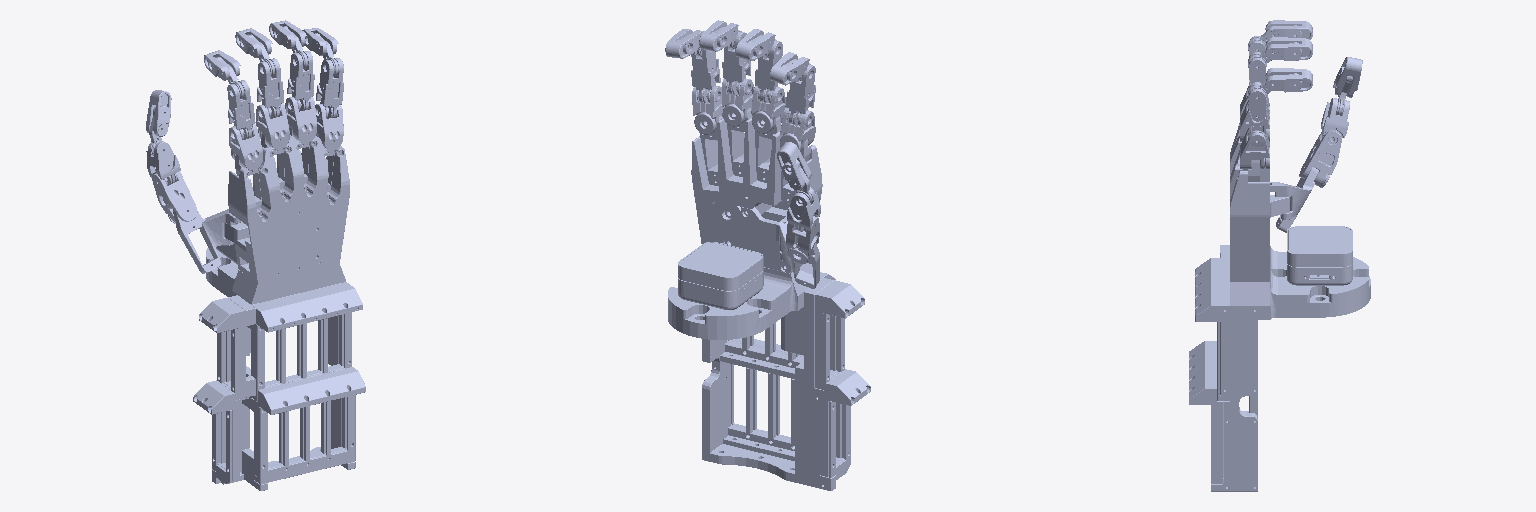
--- Facts derived from the render (not from the file) ---
Views: 3 orthographic renders of the robot side by side, from view 1: azimuth 30°, elevation 25°; view 2: azimuth 150°, elevation 25°; view 3: azimuth 270°, elevation 25°.
Model hand_rviz/urdf with 22 links and 21 joints (21 revolute), rooted at hand_base_link, posed every joint at zero.
Visible links, largest first — view 1: hand_base_link, tcf_link, tca_link, pmf_link, rmf_link, mmf_link, imf_link, mma_link, ima_link, rma_link, tma_link, pma_link (+5 smaller); view 2: hand_base_link, imf_link, pmf_link, mma_link, rma_link, pma_link, tca_link, rmf_link, tdf_link, tcf_link, tma_link, mmf_link (+5 smaller); view 3: hand_base_link, tca_link, tcf_link, pdf_link, rdf_link, pma_link, pmf_link, mdf_link, tma_link, tdf_link.
Link boxes in pixels (<box>): hand_base_link: <box>193,125,365,490</box>; tcf_link: <box>173,209,240,273</box>; tca_link: <box>152,171,197,223</box>; pmf_link: <box>316,58,343,118</box>; rmf_link: <box>287,51,314,111</box>; mmf_link: <box>257,58,283,118</box>; imf_link: <box>227,80,255,139</box>; mma_link: <box>256,103,289,149</box>; ima_link: <box>229,124,262,170</box>; rma_link: <box>285,97,316,142</box>; tma_link: <box>146,142,180,185</box>; pma_link: <box>315,104,343,150</box>; hand_base_link: <box>668,108,870,490</box>; imf_link: <box>785,64,815,125</box>; pmf_link: <box>691,49,720,103</box>; mma_link: <box>751,85,785,133</box>; rma_link: <box>722,79,754,126</box>; pma_link: <box>692,86,724,134</box>; tca_link: <box>786,216,819,263</box>; rmf_link: <box>722,31,750,95</box>; tdf_link: <box>777,142,811,190</box>; tcf_link: <box>779,217,819,288</box>; tma_link: <box>787,187,820,231</box>; mmf_link: <box>755,40,782,102</box>; hand_base_link: <box>1189,123,1370,491</box>; tca_link: <box>1299,130,1341,187</box>; tcf_link: <box>1270,167,1318,232</box>; pdf_link: <box>1265,68,1312,92</box>; rdf_link: <box>1265,37,1312,60</box>; pma_link: <box>1240,128,1269,169</box>; pmf_link: <box>1248,82,1266,140</box>; mdf_link: <box>1265,21,1312,39</box>; tma_link: <box>1321,98,1349,140</box>; tdf_link: <box>1333,57,1362,97</box>.
Size in the robot's own frame: 0.1167 by 0.1153 by 0.3038 metres.
22 mesh visuals loaded from 22 distinct referenced files (22 binary STL).

URDF robot description (hand_rviz/urdf):
<?xml version="1.0" encoding="utf-8"?>
<!-- This URDF was automatically created by SolidWorks to URDF Exporter! Originally created by Stephen Brawner ([email redacted]) 
     Commit Version: 1.6.0-4-g7f85cfe  Build Version: 1.6.7995.38578
     For more information, please see http://wiki.ros.org/sw_urdf_exporter -->
<robot
  name="hand_rviz/urdf">
  <link
    name="hand_base_link">
    <inertial>
      <origin
        xyz="-0.00076267 -0.0093008 0.022607"
        rpy="0 0 0" />
      <mass
        value="1.3833" />
      <inertia
        ixx="0.00044356"
        ixy="3.5016E-06"
        ixz="4.5009E-07"
        iyy="0.00052255"
        iyz="1.0335E-05"
        izz="0.00049725" />
    </inertial>
    <visual>
      <origin
        xyz="0 0 0"
        rpy="0 0 0" />
      <geometry>
        <mesh
          filename="package://hand_rviz/urdf/meshes/hand_base_link.STL" />
      </geometry>
      <material
        name="">
        <color
          rgba="0.79216 0.81961 0.93333 1" />
      </material>
    </visual>
  </link>
  <link
    name="tcf_link">
    <inertial>
      <origin
        xyz="-0.013539870918749 0.00696804614882354 -0.00538371900659743"
        rpy="0 0 0" />
      <mass
        value="0.00484999590725353" />
      <inertia
        ixx="7.75462007985153E-07"
        ixy="2.19658485715546E-07"
        ixz="4.35849510085829E-09"
        iyy="9.62045357645233E-07"
        iyz="-1.62755706072683E-07"
        izz="6.84730747333233E-07" />
    </inertial>
    <visual>
      <origin
        xyz="0 0 0"
        rpy="0 0 0" />
      <geometry>
        <mesh
          filename="package://hand_rviz/urdf/meshes/tcf_link.STL" />
      </geometry>
      <material
        name="">
        <color
          rgba="0.792156862745098 0.819607843137255 0.933333333333333 1" />
      </material>
    </visual>
  </link>
  <joint
    name="tcf_joint"
    type="revolute">
    <origin
      xyz="-0.03245 -0.0217 0.055"
      rpy="0 0 0" />
    <parent
      link="hand_base_link" />
    <child
      link="tcf_link" />
    <axis
      xyz="0 0 1" />
    <limit
      lower="-1.57"
      upper="0.175"
      effort="0"
      velocity="0" />
  </joint>
  <link
    name="tca_link">
    <inertial>
      <origin
        xyz="0.0104917903510064 -0.000676779323759154 0.00466340571913179"
        rpy="0 0 0" />
      <mass
        value="0.00499478923208696" />
      <inertia
        ixx="2.16030308030573E-07"
        ixy="1.54981546627714E-08"
        ixz="3.4127277536893E-08"
        iyy="5.06187109604147E-07"
        iyz="-6.53335217098194E-10"
        izz="5.03702828276537E-07" />
    </inertial>
    <visual>
      <origin
        xyz="0 0 0"
        rpy="0 0 0" />
      <geometry>
        <mesh
          filename="package://hand_rviz/urdf/meshes/tca_link.STL" />
      </geometry>
      <material
        name="">
        <color
          rgba="0.792156862745098 0.819607843137255 0.933333333333333 1" />
      </material>
    </visual>
  </link>
  <joint
    name="tca_joint"
    type="revolute">
    <origin
      xyz="-0.024 0.014785 0.0072407"
      rpy="2.8032 -1.0121 1.9642" />
    <parent
      link="tcf_link" />
    <child
      link="tca_link" />
    <axis
      xyz="0 0 1" />
    <limit
      lower="-0.5"
      upper="1"
      effort="0"
      velocity="0" />
  </joint>
  <link
    name="tma_link">
    <inertial>
      <origin
        xyz="0.0099227238129487 6.93305293311269E-05 -0.00372006632407615"
        rpy="0 0 0" />
      <mass
        value="0.00313620364525098" />
      <inertia
        ixx="9.75545402970725E-08"
        ixy="-2.05206923092884E-09"
        ixz="5.64585695528535E-09"
        iyy="1.89041486187205E-07"
        iyz="-8.1730588488558E-11"
        izz="1.94182117871117E-07" />
    </inertial>
    <visual>
      <origin
        xyz="0 0 0"
        rpy="0 0 0" />
      <geometry>
        <mesh
          filename="package://hand_rviz/urdf/meshes/tma_link.STL" />
      </geometry>
      <material
        name="">
        <color
          rgba="0.792156862745098 0.819607843137255 0.933333333333333 1" />
      </material>
    </visual>
  </link>
  <joint
    name="tma_joint"
    type="revolute">
    <origin
      xyz="0.025 0.00304267643461039 0.0026"
      rpy="-1.5707963267949 0.27478795531439 0" />
    <parent
      link="tca_link" />
    <child
      link="tma_link" />
    <axis
      xyz="0 0 1" />
    <limit
      lower="-1.2"
      upper="0.7"
      effort="0"
      velocity="0" />
  </joint>
  <link
    name="tmf_link">
    <inertial>
      <origin
        xyz="0.010171865697685 -0.00112023068715841 0.00199999764595175"
        rpy="0 0 0" />
      <mass
        value="0.000948811114997918" />
      <inertia
        ixx="8.68411494167367E-09"
        ixy="2.91569669791613E-09"
        ixz="-1.30374967066005E-14"
        iyy="9.65825232359053E-08"
        iyz="-1.90695861457809E-14"
        izz="1.02763635257402E-07" />
    </inertial>
    <visual>
      <origin
        xyz="0 0 0"
        rpy="0 0 0" />
      <geometry>
        <mesh
          filename="package://hand_rviz/urdf/meshes/tmf_link.STL" />
      </geometry>
      <material
        name="">
        <color
          rgba="0.792156862745098 0.819607843137255 0.933333333333333 1" />
      </material>
    </visual>
  </link>
  <joint
    name="tmf_joint"
    type="revolute">
    <origin
      xyz="0.0199999999999999 0.00199999999999999 -0.003"
      rpy="1.5707963267949 -0.346793637861002 0" />
    <parent
      link="tma_link" />
    <child
      link="tmf_link" />
    <axis
      xyz="0 0 1" />
    <limit
      lower="-0.8"
      upper="1.57"
      effort="0"
      velocity="0" />
  </joint>
  <link
    name="tdf_link">
    <inertial>
      <origin
        xyz="-0.000706794999553423 -7.9780973222171E-05 0.00188721331196507"
        rpy="0 0 0" />
      <mass
        value="0.00217689228300246" />
      <inertia
        ixx="5.19422563367914E-08"
        ixy="-1.62505401102383E-09"
        ixz="1.45574793265738E-10"
        iyy="1.78158999808893E-07"
        iyz="2.00750263448342E-11"
        izz="1.63515579779238E-07" />
    </inertial>
    <visual>
      <origin
        xyz="0 0 0"
        rpy="0 0 0" />
      <geometry>
        <mesh
          filename="package://hand_rviz/urdf/meshes/tdf_link.STL" />
      </geometry>
      <material
        name="">
        <color
          rgba="0.792156862745098 0.819607843137255 0.933333333333333 1" />
      </material>
    </visual>
  </link>
  <joint
    name="tdf_joint"
    type="revolute">
    <origin
      xyz="0.025 0 0"
      rpy="0 0 0.128195437634862" />
    <parent
      link="tmf_link" />
    <child
      link="tdf_link" />
    <axis
      xyz="0 0 1" />
    <limit
      lower="-1.57"
      upper="1.57"
      effort="0"
      velocity="0" />
  </joint>
  <link
    name="ima_link">
    <inertial>
      <origin
        xyz="0.0054595 8.8663E-05 -0.0031757"
        rpy="0 0 0" />
      <mass
        value="0.003771" />
      <inertia
        ixx="1.9275E-07"
        ixy="-3.8682E-09"
        ixz="-1.5076E-08"
        iyy="2.9886E-07"
        iyz="-5.1791E-10"
        izz="2.6028E-07" />
    </inertial>
    <visual>
      <origin
        xyz="0 0 0"
        rpy="0 0 0" />
      <geometry>
        <mesh
          filename="package://hand_rviz/urdf/meshes/ima_link.STL" />
      </geometry>
      <material
        name="">
        <color
          rgba="0.79216 0.81961 0.93333 1" />
      </material>
    </visual>
  </link>
  <joint
    name="ima_joint"
    type="revolute">
    <origin
      xyz="-0.030085 -0.038 0.11024"
      rpy="1.5708 -1.4573 -3.1416" />
    <parent
      link="hand_base_link" />
    <child
      link="ima_link" />
    <axis
      xyz="0 0 -1" />
    <limit
      lower="-0.436"
      upper="0.436"
      effort="0"
      velocity="0" />
  </joint>
  <link
    name="imf_link">
    <inertial>
      <origin
        xyz="0.0153264557799375 0.00013117023131164 0.00429289646844595"
        rpy="0 0 0" />
      <mass
        value="0.00350627784467482" />
      <inertia
        ixx="7.49209010355309E-08"
        ixy="-2.77275284746573E-10"
        ixz="-1.59748477244704E-08"
        iyy="3.79952976568586E-07"
        iyz="4.50763719009733E-11"
        izz="3.76775898526847E-07" />
    </inertial>
    <visual>
      <origin
        xyz="0 0 0"
        rpy="0 0 0" />
      <geometry>
        <mesh
          filename="package://hand_rviz/urdf/meshes/imf_link.STL" />
      </geometry>
      <material
        name="">
        <color
          rgba="0.792156862745098 0.819607843137255 0.933333333333333 1" />
      </material>
    </visual>
  </link>
  <joint
    name="imf_joint"
    type="revolute">
    <origin
      xyz="0.017 0.0045 -0.001625"
      rpy="1.5708 0 0" />
    <parent
      link="ima_link" />
    <child
      link="imf_link" />
    <axis
      xyz="0 0 1" />
    <limit
      lower="-1.57"
      upper="1.57"
      effort="0"
      velocity="0" />
  </joint>
  <link
    name="ipf_link">
    <inertial>
      <origin
        xyz="0.0110133857157522 -0.00135395733182886 0.00205000413325358"
        rpy="0 0 0" />
      <mass
        value="0.00108838501206663" />
      <inertia
        ixx="1.06723406101795E-08"
        ixy="4.1618568260293E-09"
        ixz="1.47097798575732E-14"
        iyy="1.13635444630546E-07"
        iyz="-1.28940560630467E-14"
        izz="1.21308280596702E-07" />
    </inertial>
    <visual>
      <origin
        xyz="0 0 0"
        rpy="0 0 0" />
      <geometry>
        <mesh
          filename="package://hand_rviz/urdf/meshes/ipf_link.STL" />
      </geometry>
      <material
        name="">
        <color
          rgba="0.792156862745098 0.819607843137255 0.933333333333333 1" />
      </material>
    </visual>
  </link>
  <joint
    name="ipf_joint"
    type="revolute">
    <origin
      xyz="0.031 0 0.00244999999999999"
      rpy="0 0 1.17317577259539" />
    <parent
      link="imf_link" />
    <child
      link="ipf_link" />
    <axis
      xyz="0 0 1" />
    <limit
      lower="-0.873"
      upper="1.57"
      effort="0"
      velocity="0" />
  </joint>
  <link
    name="idf_link">
    <inertial>
      <origin
        xyz="-0.00394721683074044 -0.00011791250333093 0.00194693189635075"
        rpy="0 0 0" />
      <mass
        value="0.00213606646468501" />
      <inertia
        ixx="5.37047683891191E-08"
        ixy="-1.93680982279618E-09"
        ixz="8.38611839997985E-10"
        iyy="1.74117816677215E-07"
        iyz="2.6340044682636E-11"
        izz="1.56263328704584E-07" />
    </inertial>
    <visual>
      <origin
        xyz="0 0 0"
        rpy="0 0 0" />
      <geometry>
        <mesh
          filename="package://hand_rviz/urdf/meshes/idf_link.STL" />
      </geometry>
      <material
        name="">
        <color
          rgba="0.792156862745098 0.819607843137255 0.933333333333333 1" />
      </material>
    </visual>
  </link>
  <joint
    name="idf_joint"
    type="revolute">
    <origin
      xyz="0.02618 0 0"
      rpy="0 0 0.397620554199505" />
    <parent
      link="ipf_link" />
    <child
      link="idf_link" />
    <axis
      xyz="0 0 1" />
    <limit
      lower="-1.57"
      upper="1.57"
      effort="0"
      velocity="0" />
  </joint>
  <link
    name="mma_link">
    <inertial>
      <origin
        xyz="0.00545950849170132 8.86601109218213E-05 -0.00317570137227467"
        rpy="0 0 0" />
      <mass
        value="0.00377096877435373" />
      <inertia
        ixx="1.927510016226E-07"
        ixy="-3.86819116341496E-09"
        ixz="-1.50761562051395E-08"
        iyy="2.98859651077226E-07"
        iyz="-5.17843628266037E-10"
        izz="2.60279335278557E-07" />
    </inertial>
    <visual>
      <origin
        xyz="0 0 0"
        rpy="0 0 0" />
      <geometry>
        <mesh
          filename="package://hand_rviz/urdf/meshes/mma_link.STL" />
      </geometry>
      <material
        name="">
        <color
          rgba="0.792156862745098 0.819607843137255 0.933333333333333 1" />
      </material>
    </visual>
  </link>
  <joint
    name="mma_joint"
    type="revolute">
    <origin
      xyz="-0.010267 -0.038 0.12046"
      rpy="1.5708 -1.5272 -3.1416" />
    <parent
      link="hand_base_link" />
    <child
      link="mma_link" />
    <axis
      xyz="0 0 -1" />
    <limit
      lower="-0.436"
      upper="0.436"
      effort="0"
      velocity="0" />
  </joint>
  <link
    name="mmf_link">
    <inertial>
      <origin
        xyz="0.015326455689727 0.00013117021774514 0.00429289645111404"
        rpy="0 0 0" />
      <mass
        value="0.00350627793815242" />
      <inertia
        ixx="7.49209011097951E-08"
        ixy="-2.77274860195148E-10"
        ixz="-1.59748485638189E-08"
        iyy="3.79952977330562E-07"
        iyz="4.50761274008358E-11"
        izz="3.76775899218746E-07" />
    </inertial>
    <visual>
      <origin
        xyz="0 0 0"
        rpy="0 0 0" />
      <geometry>
        <mesh
          filename="package://hand_rviz/urdf/meshes/mmf_link.STL" />
      </geometry>
      <material
        name="">
        <color
          rgba="0.792156862745098 0.819607843137255 0.933333333333333 1" />
      </material>
    </visual>
  </link>
  <joint
    name="mmf_joint"
    type="revolute">
    <origin
      xyz="0.017 0.0045 -0.001625"
      rpy="1.5708 0 0" />
    <parent
      link="mma_link" />
    <child
      link="mmf_link" />
    <axis
      xyz="0 0 1" />
    <limit
      lower="-1.57"
      upper="1.57"
      effort="0"
      velocity="0" />
  </joint>
  <link
    name="mpf_link">
    <inertial>
      <origin
        xyz="0.0110133857157522 -0.00135395733182886 0.00205000413325359"
        rpy="0 0 0" />
      <mass
        value="0.00108838501206663" />
      <inertia
        ixx="1.06723406101795E-08"
        ixy="4.16185682602923E-09"
        ixz="1.47097800907879E-14"
        iyy="1.13635444630546E-07"
        iyz="-1.28940560783028E-14"
        izz="1.21308280596702E-07" />
    </inertial>
    <visual>
      <origin
        xyz="0 0 0"
        rpy="0 0 0" />
      <geometry>
        <mesh
          filename="package://hand_rviz/urdf/meshes/mpf_link.STL" />
      </geometry>
      <material
        name="">
        <color
          rgba="0.792156862745098 0.819607843137255 0.933333333333333 1" />
      </material>
    </visual>
  </link>
  <joint
    name="mpf_joint"
    type="revolute">
    <origin
      xyz="0.0309999999999998 0 0.00245"
      rpy="0 0 1.17317577259539" />
    <parent
      link="mmf_link" />
    <child
      link="mpf_link" />
    <axis
      xyz="0 0 1" />
    <limit
      lower="-0.873"
      upper="1.57"
      effort="0"
      velocity="0" />
  </joint>
  <link
    name="mdf_link">
    <inertial>
      <origin
        xyz="-0.0039472168462003 -0.000117912464608239 0.00194693194571938"
        rpy="0 0 0" />
      <mass
        value="0.00213606647535569" />
      <inertia
        ixx="5.37047707729126E-08"
        ixy="-1.93681092637284E-09"
        ixz="8.38611194263335E-10"
        iyy="1.74117815271048E-07"
        iyz="2.63402321381976E-11"
        izz="1.56263329372876E-07" />
    </inertial>
    <visual>
      <origin
        xyz="0 0 0"
        rpy="0 0 0" />
      <geometry>
        <mesh
          filename="package://hand_rviz/urdf/meshes/mdf_link.STL" />
      </geometry>
      <material
        name="">
        <color
          rgba="0.792156862745098 0.819607843137255 0.933333333333333 1" />
      </material>
    </visual>
  </link>
  <joint
    name="mdf_joint"
    type="revolute">
    <origin
      xyz="0.02618 0 0"
      rpy="0 0 0.397620554199505" />
    <parent
      link="mpf_link" />
    <child
      link="mdf_link" />
    <axis
      xyz="0 0 1" />
    <limit
      lower="-1.57"
      upper="1.57"
      effort="0"
      velocity="0" />
  </joint>
  <link
    name="rma_link">
    <inertial>
      <origin
        xyz="0.00545951269553185 8.86616255767765E-05 -0.0031756999296097"
        rpy="0 0 0" />
      <mass
        value="0.00377097155039619" />
      <inertia
        ixx="1.92751094137635E-07"
        ixy="-3.86811200554874E-09"
        ixz="-1.5076223370178E-08"
        iyy="2.98859812161307E-07"
        iyz="-5.177243196977E-10"
        izz="2.60279479059688E-07" />
    </inertial>
    <visual>
      <origin
        xyz="0 0 0"
        rpy="0 0 0" />
      <geometry>
        <mesh
          filename="package://hand_rviz/urdf/meshes/rma_link.STL" />
      </geometry>
      <material
        name="">
        <color
          rgba="0.792156862745098 0.819607843137255 0.933333333333333 1" />
      </material>
    </visual>
  </link>
  <joint
    name="rma_joint"
    type="revolute">
    <origin
      xyz="0.010267 -0.038 0.12046"
      rpy="-1.5708 -1.5272 0" />
    <parent
      link="hand_base_link" />
    <child
      link="rma_link" />
    <axis
      xyz="0 0 -1" />
    <limit
      lower="-0.436"
      upper="0.436"
      effort="0"
      velocity="0" />
  </joint>
  <link
    name="rmf_link">
    <inertial>
      <origin
        xyz="0.0153264556311606 0.000131170224199757 0.00429289645969763"
        rpy="0 0 0" />
      <mass
        value="0.00350627800305114" />
      <inertia
        ixx="7.49209011449325E-08"
        ixy="-2.77274109498901E-10"
        ixz="-1.59748486218069E-08"
        iyy="3.79952978018083E-07"
        iyz="4.50759710300545E-11"
        izz="3.76775899854073E-07" />
    </inertial>
    <visual>
      <origin
        xyz="0 0 0"
        rpy="0 0 0" />
      <geometry>
        <mesh
          filename="package://hand_rviz/urdf/meshes/rmf_link.STL" />
      </geometry>
      <material
        name="">
        <color
          rgba="0.792156862745098 0.819607843137255 0.933333333333333 1" />
      </material>
    </visual>
  </link>
  <joint
    name="rmf_joint"
    type="revolute">
    <origin
      xyz="0.017 0.00450000000000001 -0.001625"
      rpy="1.5707963267949 0 0" />
    <parent
      link="rma_link" />
    <child
      link="rmf_link" />
    <axis
      xyz="0 0 1" />
    <limit
      lower="-1.57"
      upper="1.57"
      effort="0"
      velocity="0" />
  </joint>
  <link
    name="rpf_link">
    <inertial>
      <origin
        xyz="0.0110133857157522 -0.00135395733182891 0.00205000413325358"
        rpy="0 0 0" />
      <mass
        value="0.00108838501206663" />
      <inertia
        ixx="1.06723406101795E-08"
        ixy="4.16185682602917E-09"
        ixz="1.47097799814621E-14"
        iyy="1.13635444630546E-07"
        iyz="-1.28940560682951E-14"
        izz="1.21308280596703E-07" />
    </inertial>
    <visual>
      <origin
        xyz="0 0 0"
        rpy="0 0 0" />
      <geometry>
        <mesh
          filename="package://hand_rviz/urdf/meshes/rpf_link.STL" />
      </geometry>
      <material
        name="">
        <color
          rgba="0.792156862745098 0.819607843137255 0.933333333333333 1" />
      </material>
    </visual>
  </link>
  <joint
    name="rpf_joint"
    type="revolute">
    <origin
      xyz="0.031 0 0.00245"
      rpy="0 0 1.17317577259539" />
    <parent
      link="rmf_link" />
    <child
      link="rpf_link" />
    <axis
      xyz="0 0 1" />
    <limit
      lower="-0.873"
      upper="1.57"
      effort="0"
      velocity="0" />
  </joint>
  <link
    name="rdf_link">
    <inertial>
      <origin
        xyz="-0.00394721685418644 -0.000117912489628114 0.00194693199536807"
        rpy="0 0 0" />
      <mass
        value="0.00213606648739499" />
      <inertia
        ixx="5.37047728994672E-08"
        ixy="-1.93681073232948E-09"
        ixz="8.38610554765376E-10"
        iyy="1.741178141989E-07"
        iyz="2.63403970017548E-11"
        izz="1.56263330080878E-07" />
    </inertial>
    <visual>
      <origin
        xyz="0 0 0"
        rpy="0 0 0" />
      <geometry>
        <mesh
          filename="package://hand_rviz/urdf/meshes/rdf_link.STL" />
      </geometry>
      <material
        name="">
        <color
          rgba="0.792156862745098 0.819607843137255 0.933333333333333 1" />
      </material>
    </visual>
  </link>
  <joint
    name="rdf_joint"
    type="revolute">
    <origin
      xyz="0.02618 0 0"
      rpy="0 0 0.397620554199504" />
    <parent
      link="rpf_link" />
    <child
      link="rdf_link" />
    <axis
      xyz="0 0 1" />
    <limit
      lower="-1.57"
      upper="1.57"
      effort="0"
      velocity="0" />
  </joint>
  <link
    name="pma_link">
    <inertial>
      <origin
        xyz="0 0 0"
        rpy="0 0 0" />
      <mass
        value="0" />
      <inertia
        ixx="0"
        ixy="0"
        ixz="0"
        iyy="0"
        iyz="0"
        izz="0" />
    </inertial>
    <visual>
      <origin
        xyz="0 0 0"
        rpy="0 0 0" />
      <geometry>
        <mesh
          filename="package://hand_rviz/urdf/meshes/pma_link.STL" />
      </geometry>
      <material
        name="">
        <color
          rgba="0.792156862745098 0.819607843137255 0.933333333333333 1" />
      </material>
    </visual>
  </link>
  <joint
    name="pma_joint"
    type="revolute">
    <origin
      xyz="0.030085 -0.038 0.11024"
      rpy="-1.5708 -1.4573 0" />
    <parent
      link="hand_base_link" />
    <child
      link="pma_link" />
    <axis
      xyz="0 0 -1" />
    <limit
      lower="-0.436"
      upper="0.436"
      effort="0"
      velocity="0" />
  </joint>
  <link
    name="pmf_link">
    <inertial>
      <origin
        xyz="0.0153264556452624 0.000131170229664407 0.00429289646652604"
        rpy="0 0 0" />
      <mass
        value="0.0035062779898751" />
      <inertia
        ixx="7.49209011315719E-08"
        ixy="-2.77274068783739E-10"
        ixz="-1.5974848387738E-08"
        iyy="3.799529779382E-07"
        iyz="4.50760084554215E-11"
        izz="3.76775899782436E-07" />
    </inertial>
    <visual>
      <origin
        xyz="0 0 0"
        rpy="0 0 0" />
      <geometry>
        <mesh
          filename="package://hand_rviz/urdf/meshes/pmf_link.STL" />
      </geometry>
      <material
        name="">
        <color
          rgba="0.792156862745098 0.819607843137255 0.933333333333333 1" />
      </material>
    </visual>
  </link>
  <joint
    name="pmf_joint"
    type="revolute">
    <origin
      xyz="0.017 0.0045 -0.001625"
      rpy="1.5707963267949 0 0" />
    <parent
      link="pma_link" />
    <child
      link="pmf_link" />
    <axis
      xyz="0 0 1" />
    <limit
      lower="-1.57"
      upper="1.57"
      effort="0"
      velocity="0" />
  </joint>
  <link
    name="ppf_link">
    <inertial>
      <origin
        xyz="0.0110133857157522 -0.00135395733182886 0.00205000413325357"
        rpy="0 0 0" />
      <mass
        value="0.00108838501206663" />
      <inertia
        ixx="1.06723406101795E-08"
        ixy="4.1618568260293E-09"
        ixz="1.47097799831336E-14"
        iyy="1.13635444630547E-07"
        iyz="-1.28940560689107E-14"
        izz="1.21308280596703E-07" />
    </inertial>
    <visual>
      <origin
        xyz="0 0 0"
        rpy="0 0 0" />
      <geometry>
        <mesh
          filename="package://hand_rviz/urdf/meshes/ppf_link.STL" />
      </geometry>
      <material
        name="">
        <color
          rgba="0.792156862745098 0.819607843137255 0.933333333333333 1" />
      </material>
    </visual>
  </link>
  <joint
    name="ppf_joint"
    type="revolute">
    <origin
      xyz="0.0309999999999999 0 0.00245"
      rpy="0 0 1.17317577259539" />
    <parent
      link="pmf_link" />
    <child
      link="ppf_link" />
    <axis
      xyz="0 0 1" />
    <limit
      lower="-0.873"
      upper="1.57"
      effort="0"
      velocity="0" />
  </joint>
  <link
    name="pdf_link">
    <inertial>
      <origin
        xyz="-0.00394721685373973 -0.000117912575368584 0.00194693203933429"
        rpy="0 0 0" />
      <mass
        value="0.00213606649935728" />
      <inertia
        ixx="5.37047745131986E-08"
        ixy="-1.93680926392122E-09"
        ixz="8.3860999833177E-10"
        iyy="1.74117813589535E-07"
        iyz="2.63405188881355E-11"
        izz="1.56263330743313E-07" />
    </inertial>
    <visual>
      <origin
        xyz="0 0 0"
        rpy="0 0 0" />
      <geometry>
        <mesh
          filename="package://hand_rviz/urdf/meshes/pdf_link.STL" />
      </geometry>
      <material
        name="">
        <color
          rgba="0.792156862745098 0.819607843137255 0.933333333333333 1" />
      </material>
    </visual>
  </link>
  <joint
    name="pdf_joint"
    type="revolute">
    <origin
      xyz="0.02618 0 0"
      rpy="0 0 0.397620554199505" />
    <parent
      link="ppf_link" />
    <child
      link="pdf_link" />
    <axis
      xyz="0 0 1" />
    <limit
      lower="-1.57"
      upper="1.57"
      effort="0"
      velocity="0" />
  </joint>
</robot>
